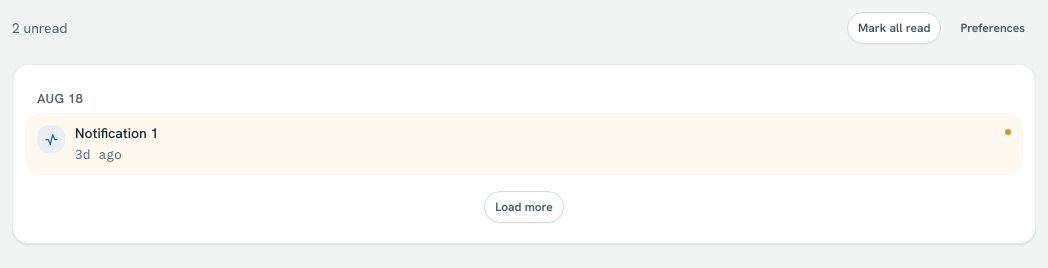
Test: NotificationsPage feed (NTF-12) › NTF-12: Load more sends the server's own cursor back and APPENDS the next page
The image size is (1048, 268).
Expected: the text "Notification 1" is shown, [74,123,158,142]
Step 1. Click the button "Load more" → (524, 207), box [484,191,564,223]
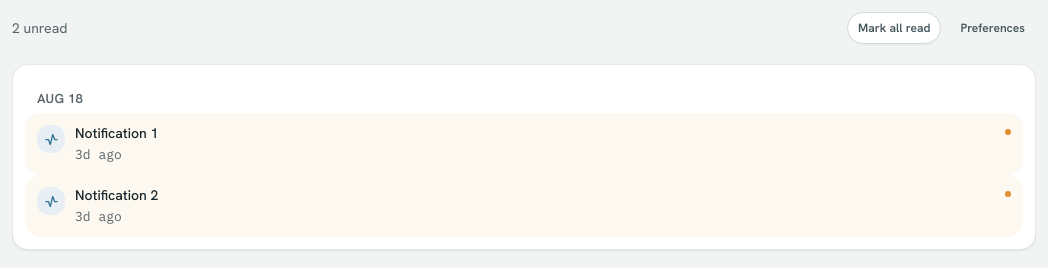
Expected: the text "Notification 1" is shown, [74,123,158,142]
Expected: the text "Notification 2" is shown, [74,185,158,204]
Expected: the button "Load more" is gone
